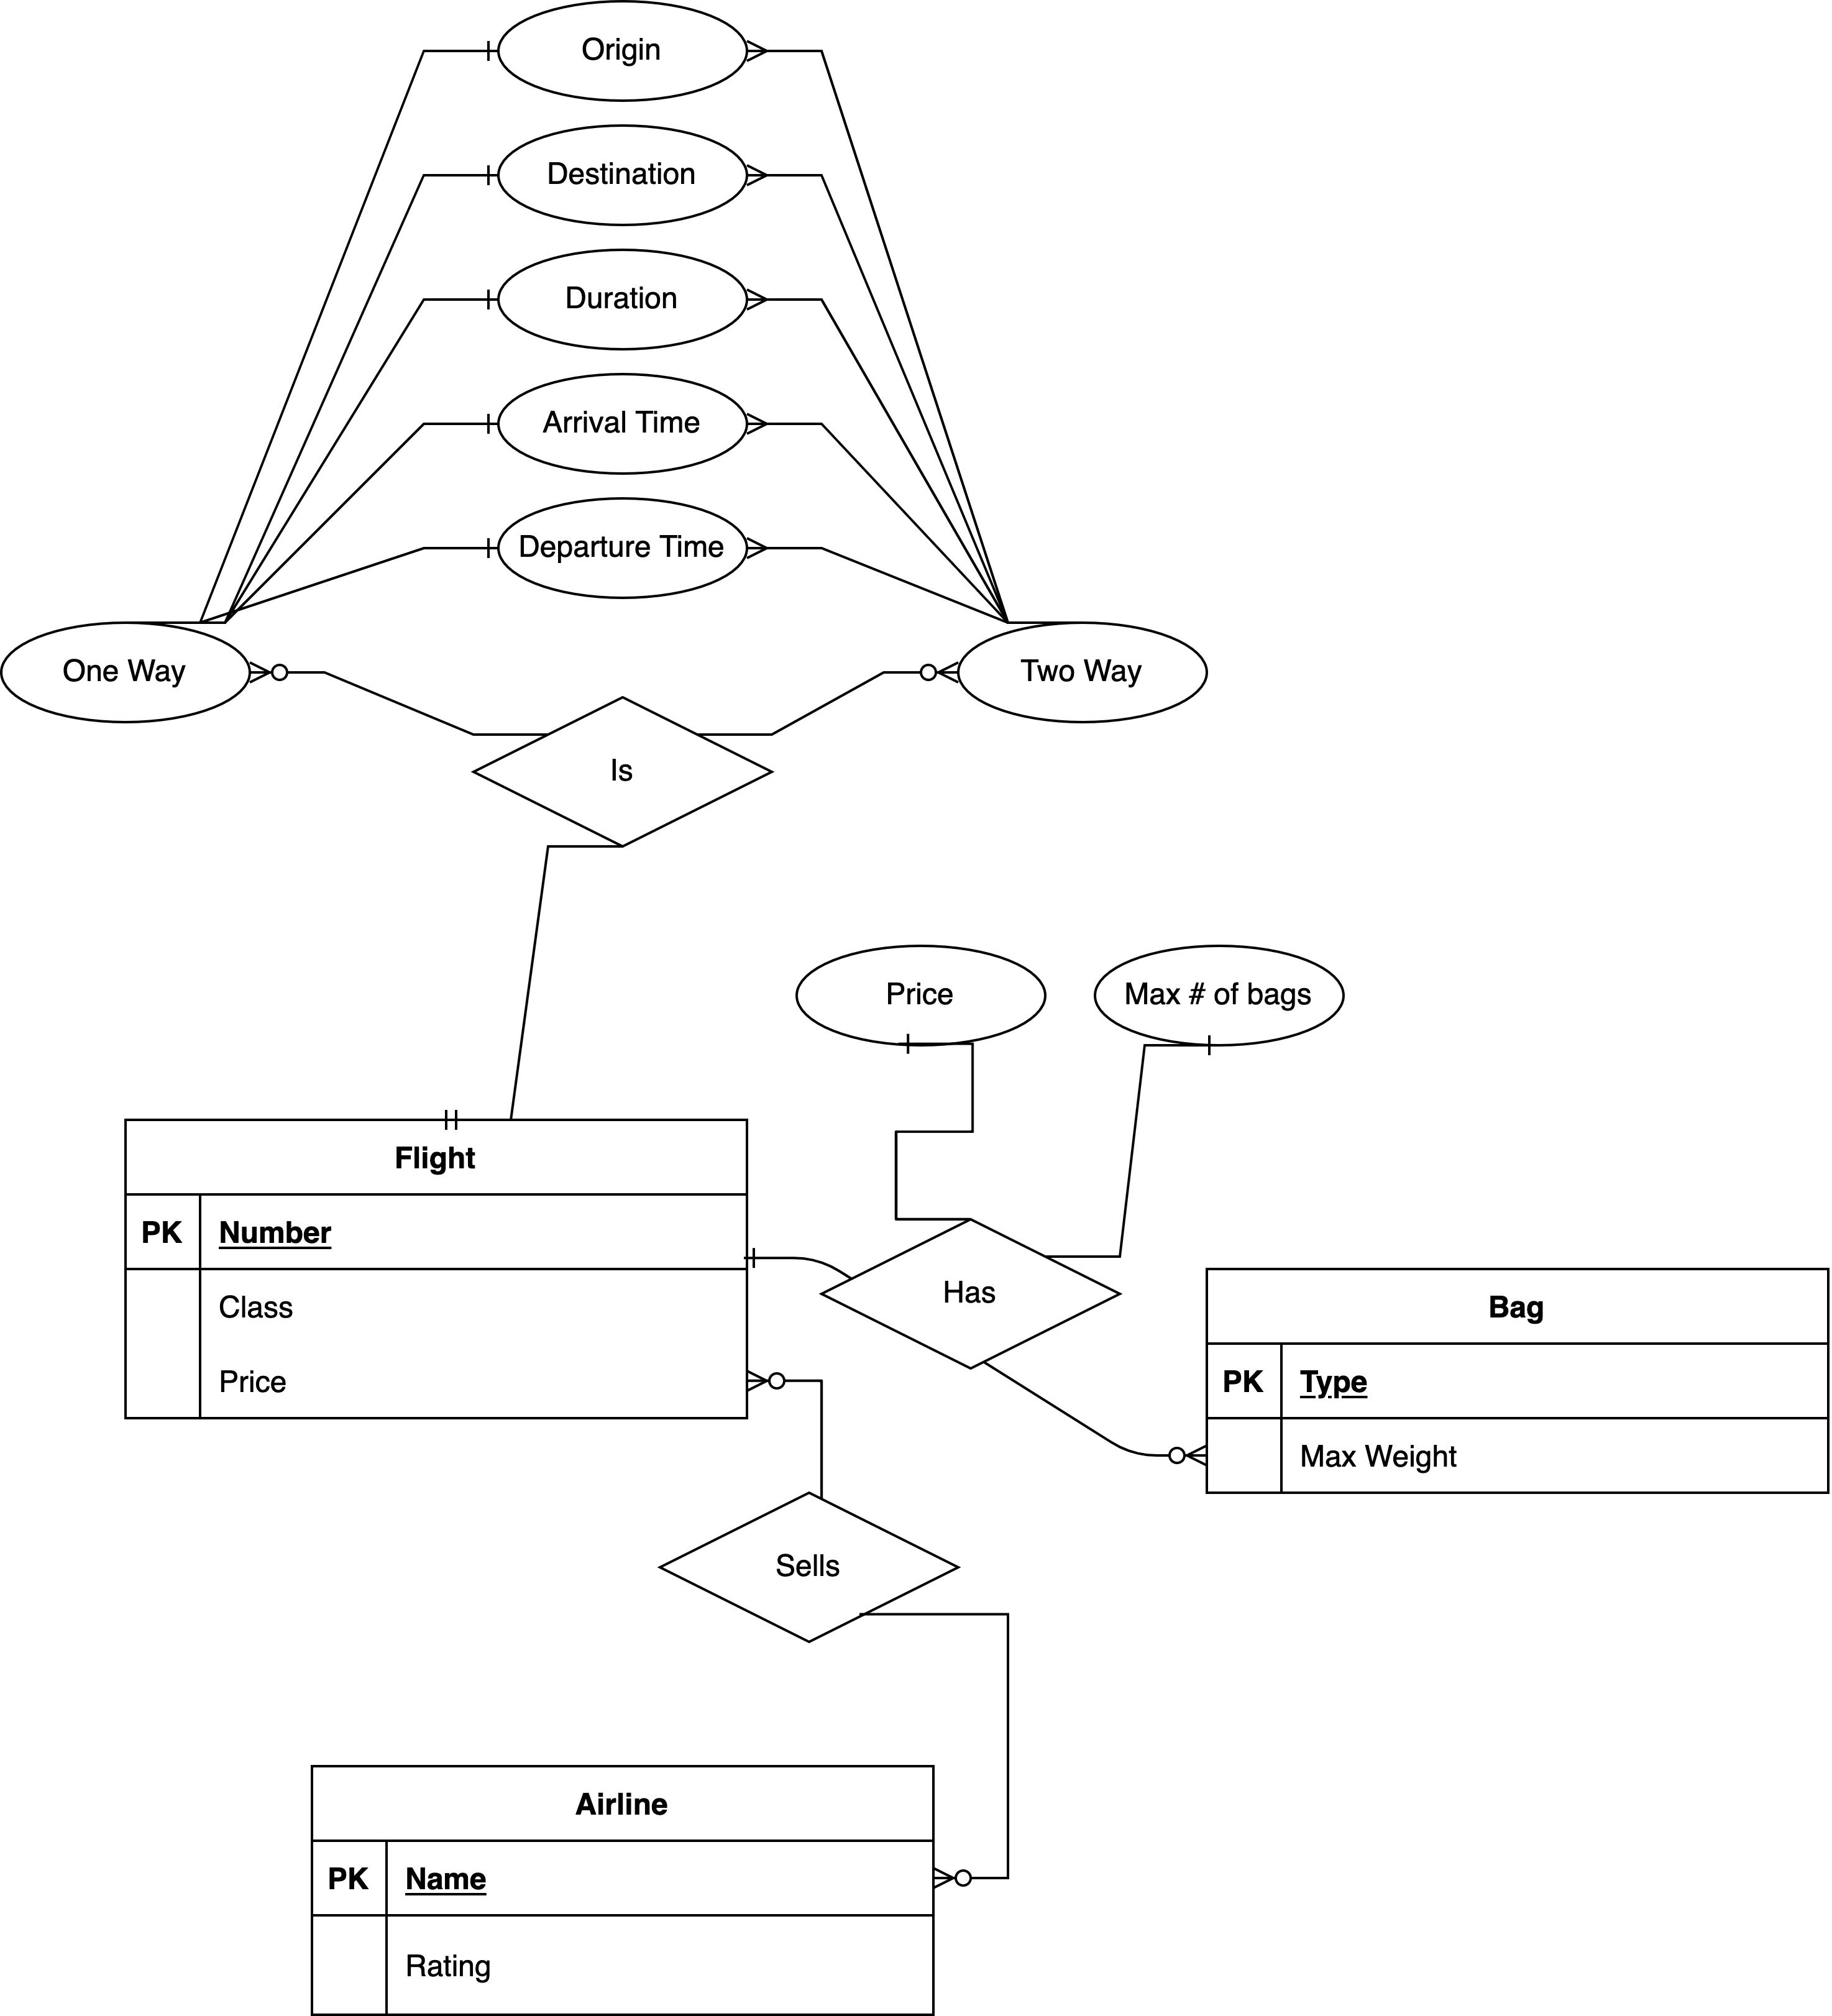attribute: (0, 613, 246, 725), (497, 125, 757, 227), (497, 251, 748, 353), (497, 7, 750, 107), (797, 947, 1045, 1048), (497, 376, 748, 476), (961, 623, 1210, 724), (1096, 948, 1344, 1047), (495, 502, 747, 599)
entity: (114, 1110, 755, 1422), (297, 1756, 941, 2016), (1201, 1268, 1832, 1501)
relationship: (469, 699, 773, 848), (824, 1222, 1119, 1370), (666, 1498, 959, 1642)
